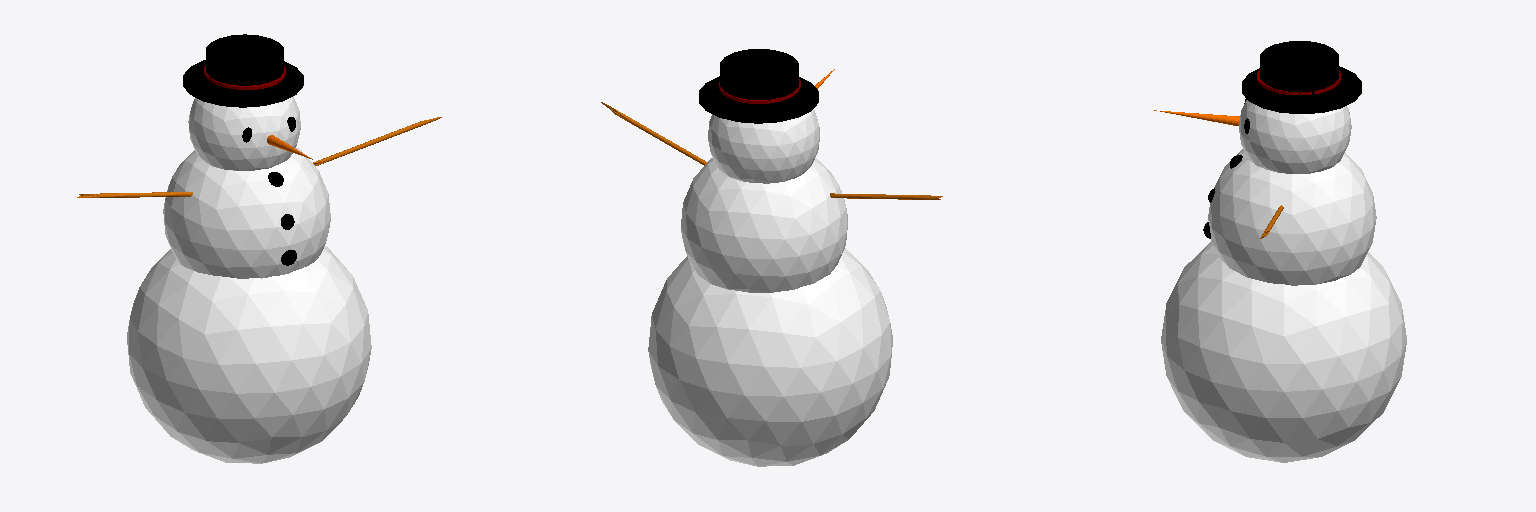
The model's file is snowman.obj.
3 renders of one model, left to right at view 1: azimuth 30°, elevation 25°; view 2: azimuth 150°, elevation 25°; view 3: azimuth 270°, elevation 25°, orthographic.
Visible parts, largest first — view 1: GeoSphere001, GeoSphere002, GeoSphere003, Cylinder001, Cylinder002, Tube003, Tube002; view 2: GeoSphere001, GeoSphere002, GeoSphere003, Cylinder001, Cylinder002, Tube003; view 3: GeoSphere001, GeoSphere002, GeoSphere003, Cylinder001, Cylinder002.
Part boxes in pixels (left/top/right/bottom): GeoSphere001: left=127, top=246, right=371, bottom=463; GeoSphere002: left=163, top=147, right=330, bottom=278; GeoSphere003: left=188, top=96, right=300, bottom=170; Cylinder001: left=206, top=34, right=283, bottom=96; Cylinder002: left=183, top=60, right=303, bottom=107; Tube003: left=313, top=117, right=441, bottom=165; Tube002: left=77, top=192, right=192, bottom=197; GeoSphere001: left=648, top=248, right=892, bottom=466; GeoSphere002: left=681, top=157, right=847, bottom=292; GeoSphere003: left=708, top=109, right=819, bottom=183; Cylinder001: left=720, top=49, right=798, bottom=111; Cylinder002: left=699, top=76, right=818, bottom=123; Tube003: left=601, top=102, right=707, bottom=165; GeoSphere001: left=1161, top=241, right=1406, bottom=462; GeoSphere002: left=1208, top=149, right=1376, bottom=285; GeoSphere003: left=1239, top=100, right=1351, bottom=173; Cylinder001: left=1260, top=41, right=1338, bottom=103; Cylinder002: left=1242, top=66, right=1361, bottom=113.
Size of the model in its own units: 65.62 by 69.92 by 40.75.